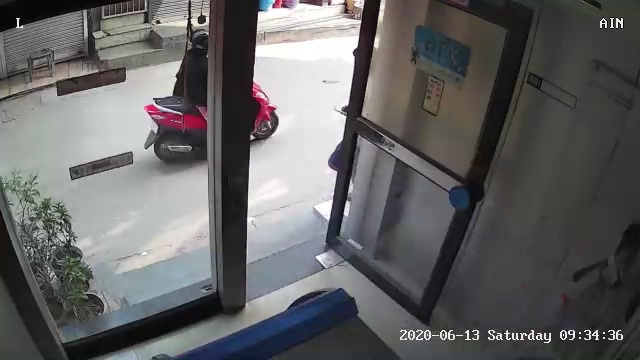open: (203, 5, 543, 324)
